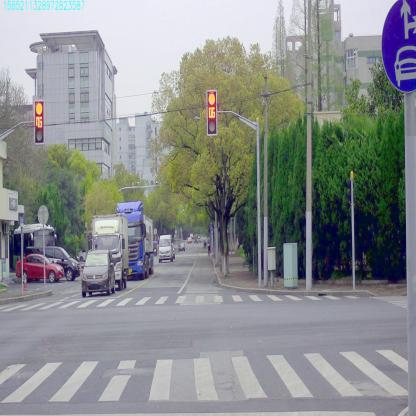traffic-light: (207, 90, 217, 135), (35, 102, 43, 142)
